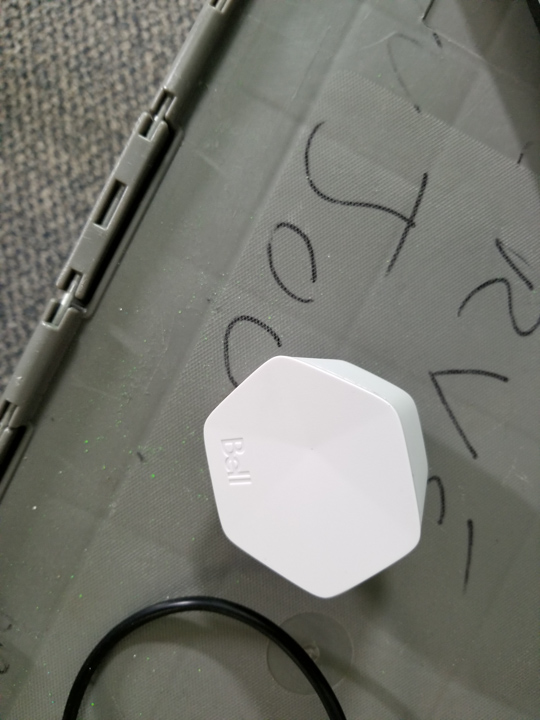pod: (198, 351, 438, 604)
